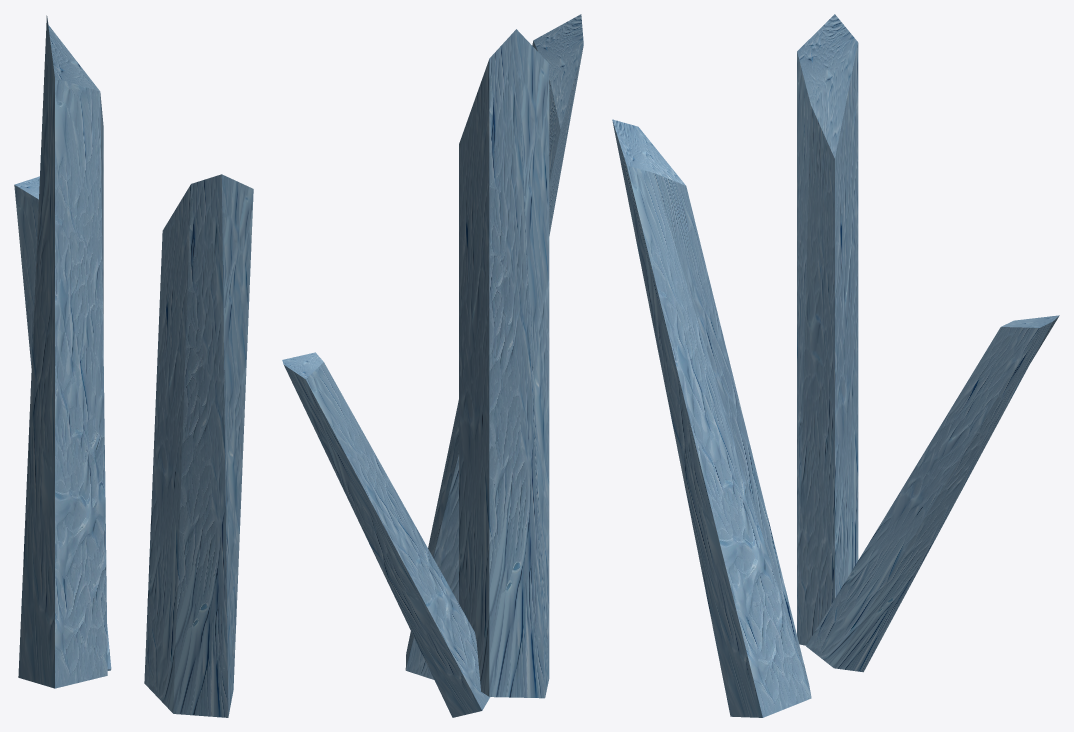
File: feature1.gltf
3 views of the same model, side by side, from view 1: azimuth 30°, elevation 25°; view 2: azimuth 150°, elevation 25°; view 3: azimuth 270°, elevation 25° (orthographic). The views are drawn at different scales.
Parts seen in each view (by area): view 1: Cylinder.001, Cylinder, Cylinder.002; view 2: Cylinder, Cylinder.002, Cylinder.001; view 3: Cylinder.001, Cylinder, Cylinder.002.
Boxes of the visible parts, x1,y1,x2,y2 form: Cylinder.001: (144,174,253,717); Cylinder: (18,15,107,688); Cylinder.002: (14,176,111,670); Cylinder: (459,29,549,698); Cylinder.002: (282,352,490,717); Cylinder.001: (405,14,583,679); Cylinder.001: (612,119,811,717); Cylinder: (797,14,858,645); Cylinder.002: (806,315,1059,672).
Size of the model in its own units: 0.6204 by 2.33 by 1.46.
1 material, 1 textured.
